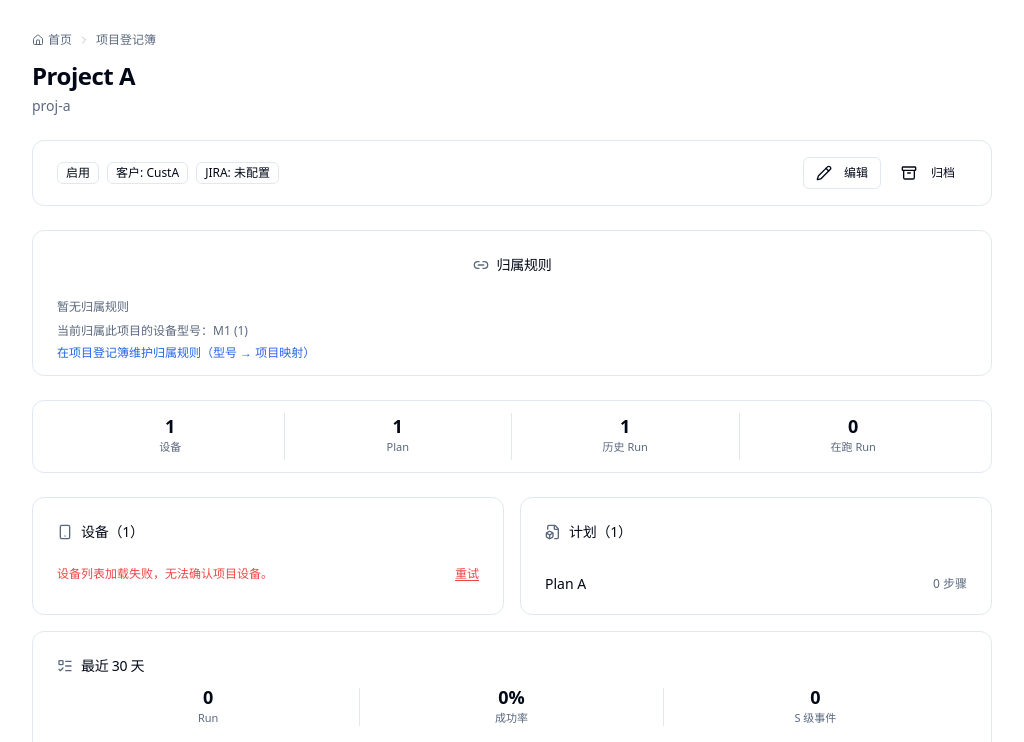
ProjectDetailPage › shows a load error with retry when the devices query fails, not the empty copy
This screenshot has width=1024, height=742.
Expected: the element with test id "devices-load-error" shows "设备列表加载失败", top-left (57, 564), bottom-right (273, 582)
Expected: the text "该项目暂无设备" is not shown
Click the button "重试". click: (467, 574)
box: top-left (455, 566), bottom-right (479, 582)
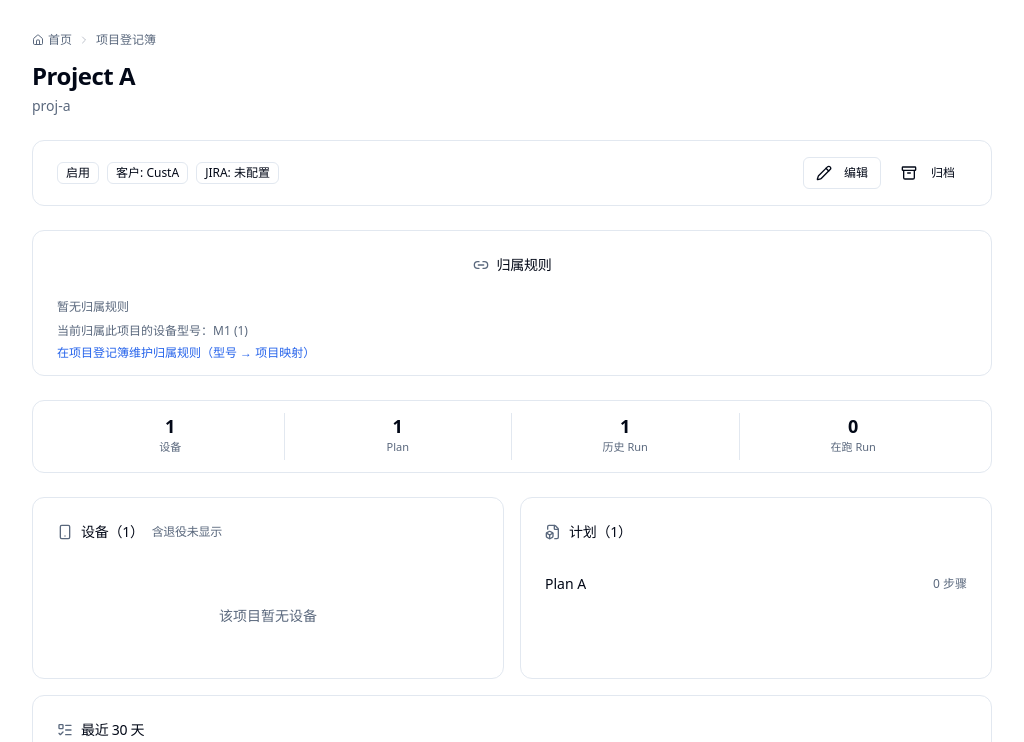
Now the element with test id "devices-load-error" is gone
Now the text "该项目暂无设备" is shown, box top-left (219, 606), bottom-right (317, 624)
